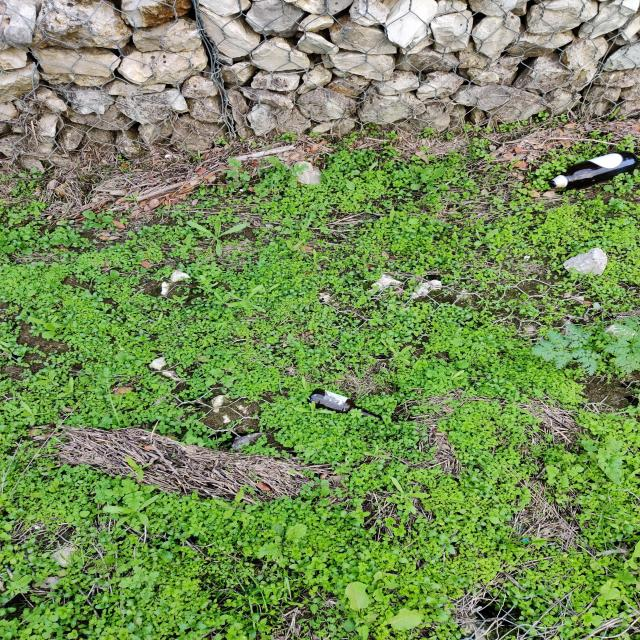litter: (546, 146, 638, 193), (303, 387, 383, 423)
